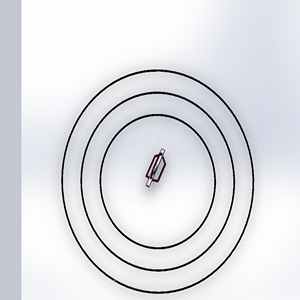circle: (56, 64, 261, 298)
submarine: (135, 143, 179, 195)
